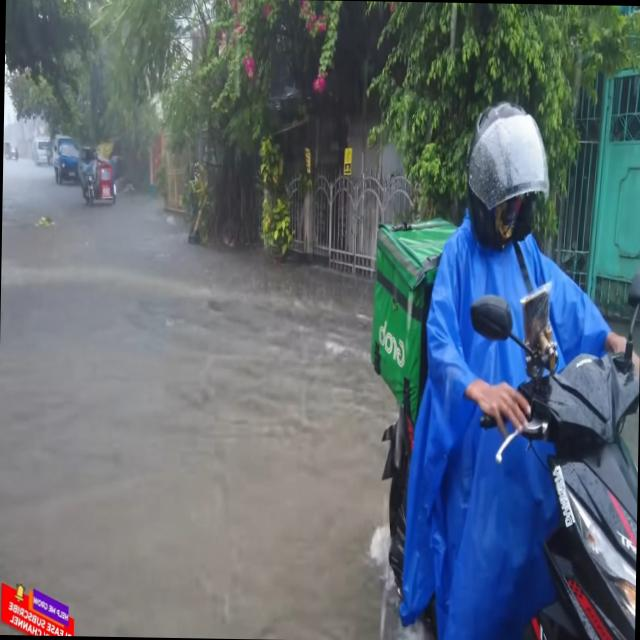half: (458, 96, 552, 269)
